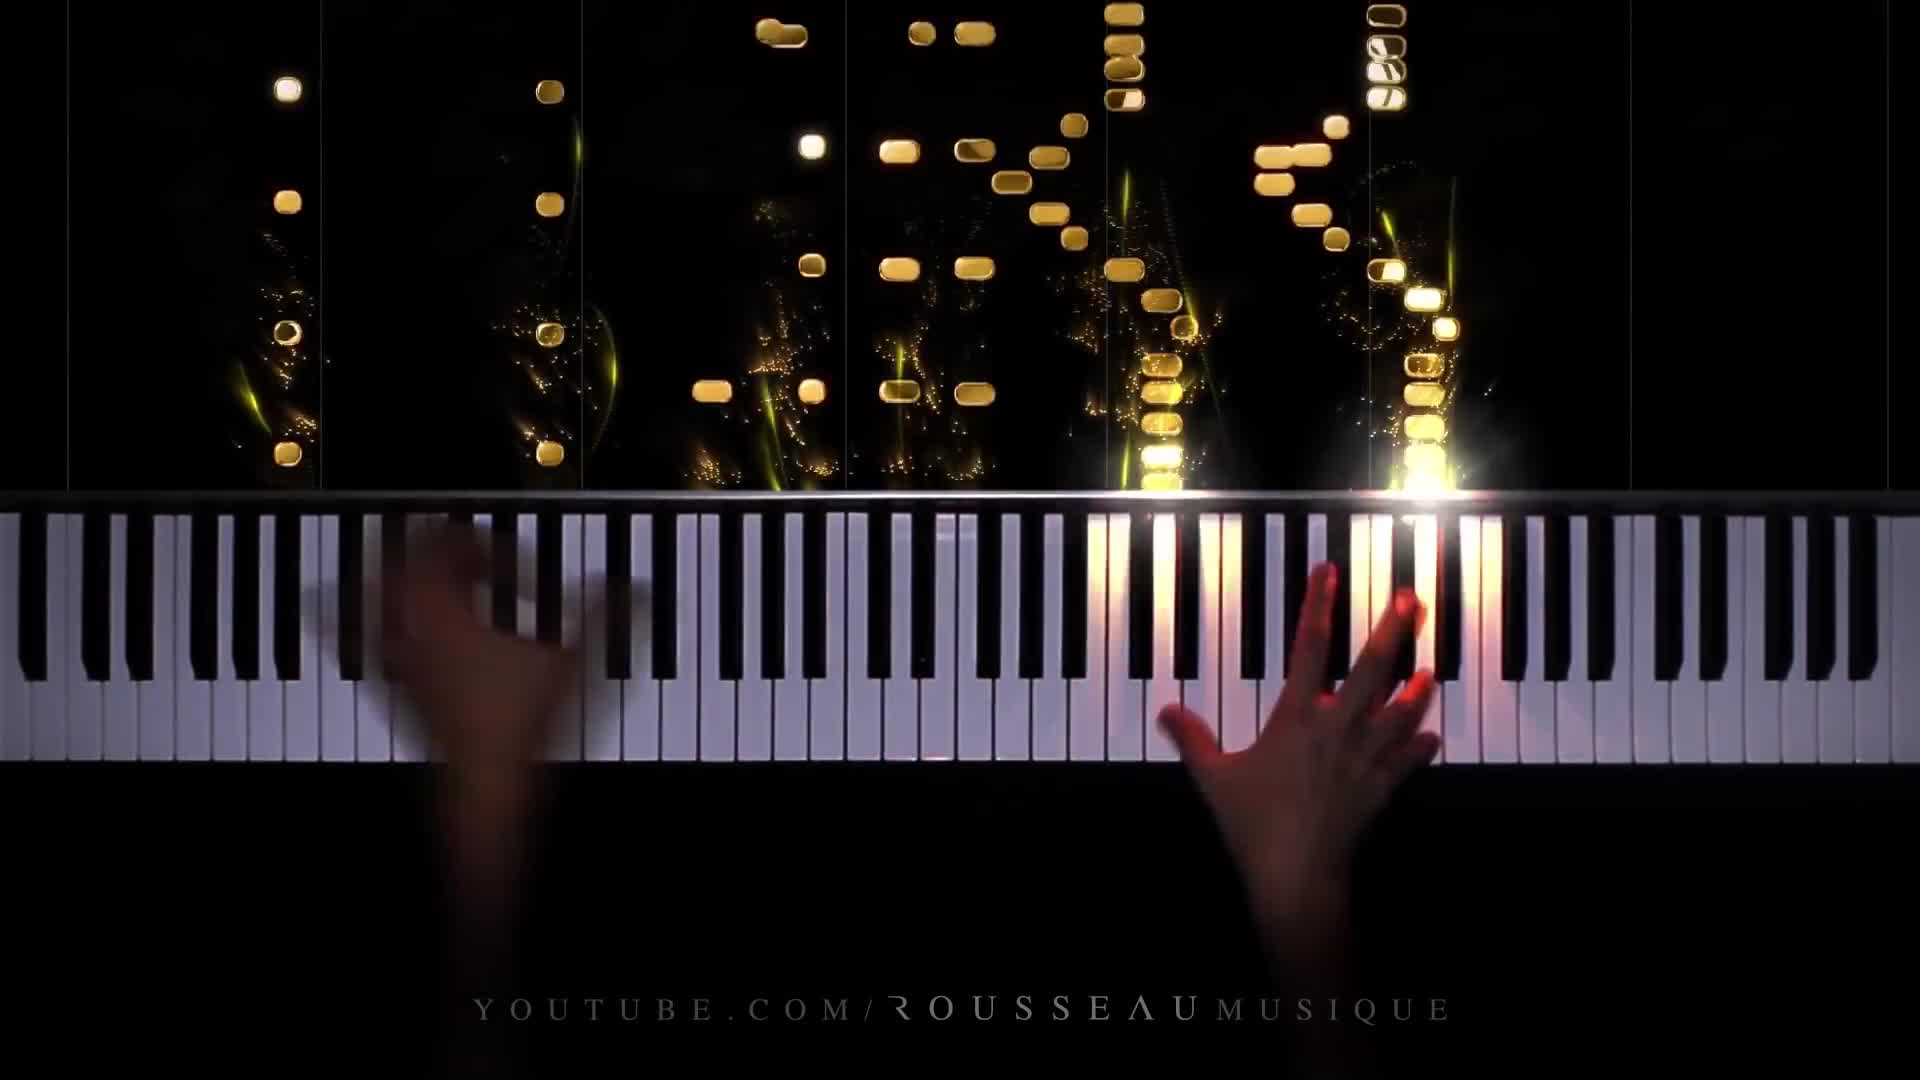left: (363, 512, 628, 795)
right: (1156, 567, 1440, 885)
